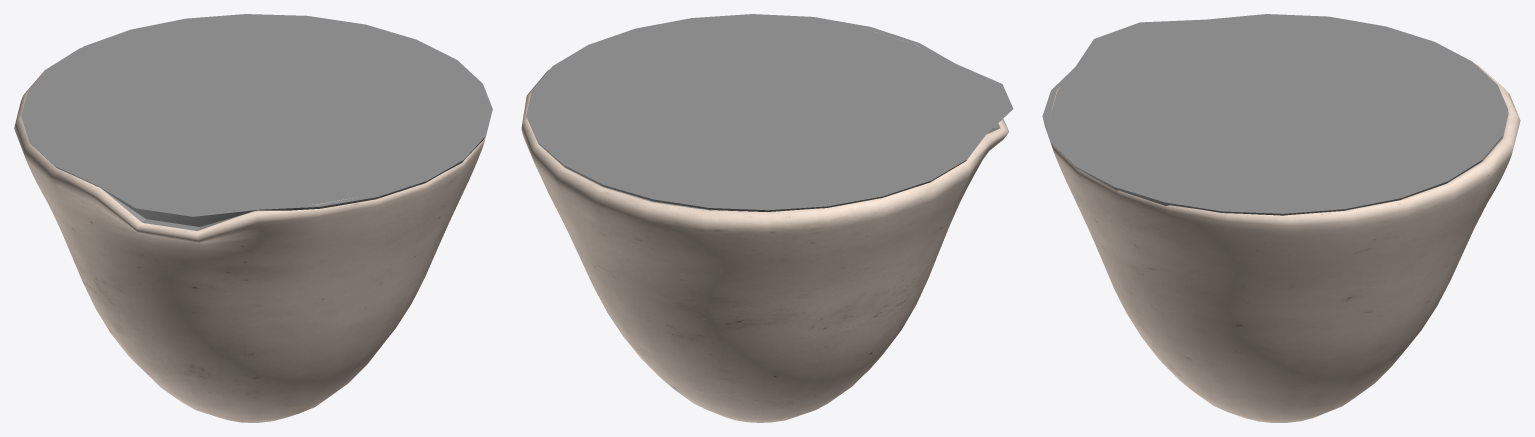
The picture shows the model from 3 angles, left to right: view 1: azimuth 30°, elevation 25°; view 2: azimuth 150°, elevation 25°; view 3: azimuth 270°, elevation 25°; orthographic projection.
Visible parts, largest first — view 1: Object001, 301, Inner; view 2: Object001, 301, Inner; view 3: Object001, 301.
Part boxes in pixels (x1,y1,x2,y2): Object001: [21, 14, 492, 226]; 301: [14, 48, 485, 422]; Inner: [103, 190, 373, 230]; Object001: [526, 14, 1013, 211]; 301: [521, 44, 1008, 422]; Inner: [543, 29, 1000, 211]; Object001: [1042, 14, 1508, 215]; 301: [1043, 64, 1520, 422].
Bounding box in the file's own units: 139 × 96.47 × 139.
2 materials, 1 textured.
